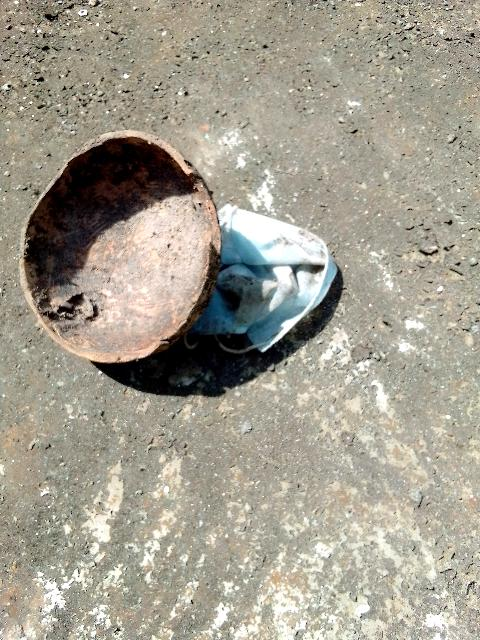mask: (232, 180, 334, 350)
